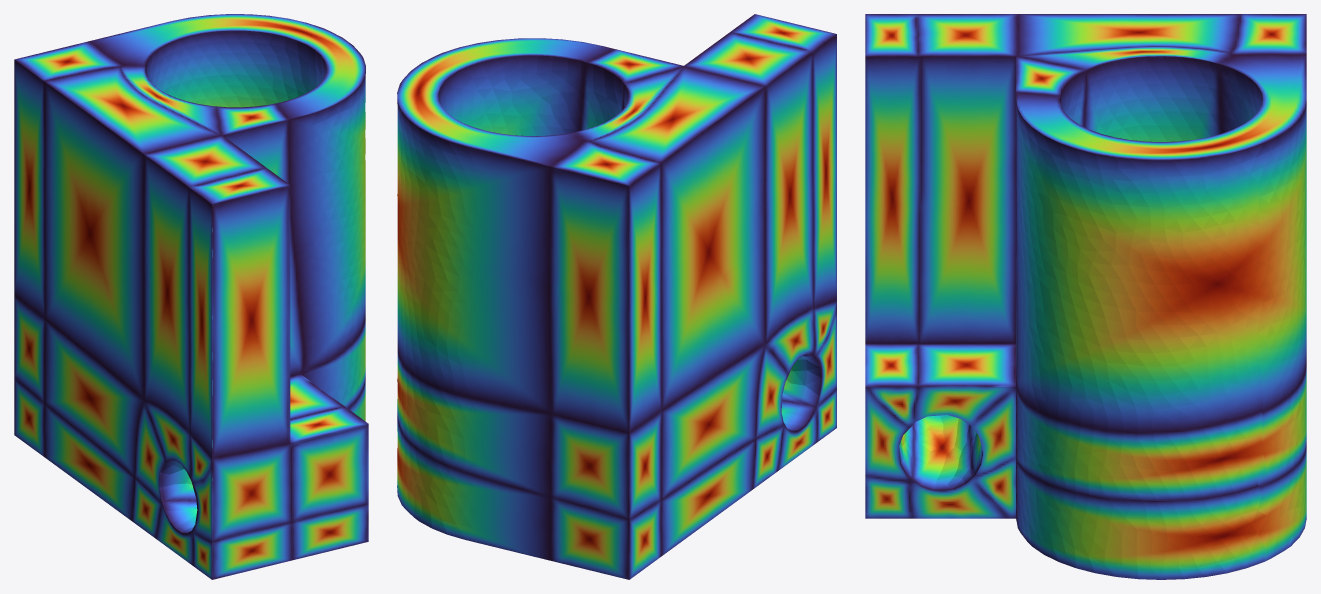
Rendered from gen1.glb.
3 views of the same model, side by side, from view 1: azimuth 30°, elevation 25°; view 2: azimuth 150°, elevation 25°; view 3: azimuth 270°, elevation 25° (orthographic). The views are drawn at different scales.
Parts seen in each view (by area): view 1: Node; view 2: Node; view 3: Node.
Boxes of the visible parts, x1,y1,x2,y2 form: Node: [14, 14, 368, 579]; Node: [397, 14, 836, 579]; Node: [865, 14, 1306, 579].
Bounding box in the file's own units: 0.7501 × 1 × 0.9542.
Materials: 1 (1 with a texture image).
